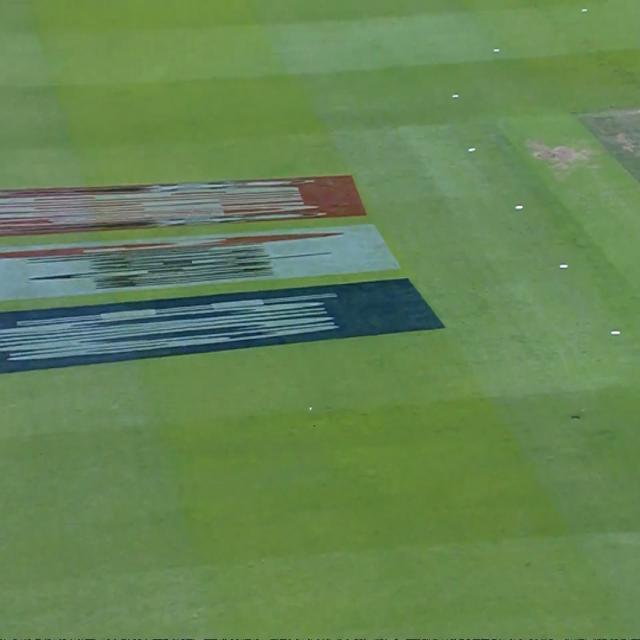ball: (303, 400, 315, 420)
